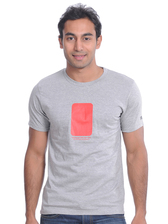clothoes: (28, 66, 145, 215)
